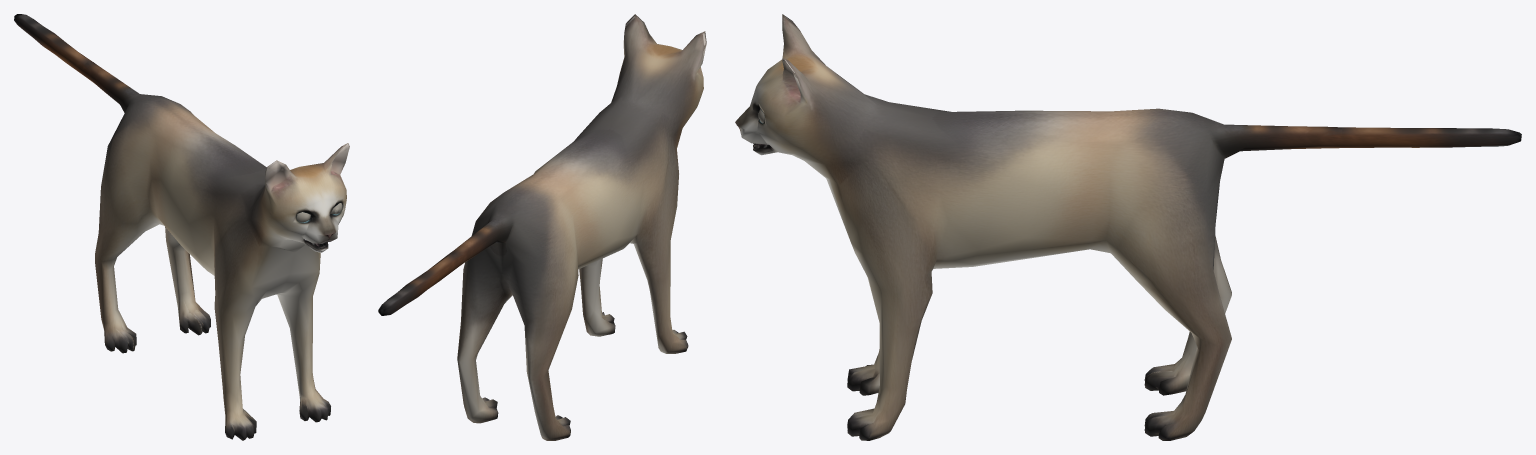
3 renders of one model, left to right at view 1: azimuth 30°, elevation 25°; view 2: azimuth 150°, elevation 25°; view 3: azimuth 270°, elevation 25°, orthographic. The views are drawn at different scales.
Visible parts, largest first — view 1: Cat_R_Body_LOD5; view 2: Cat_R_Body_LOD5; view 3: Cat_R_Body_LOD5.
Boxes of the visible parts, x1,y1,x2,y2 form: Cat_R_Body_LOD5: (14,14,349,440); Cat_R_Body_LOD5: (378,14,706,440); Cat_R_Body_LOD5: (735,14,1521,440).
Size of the model in its own units: 39.05 by 105 by 200.
1 material, 1 textured.
